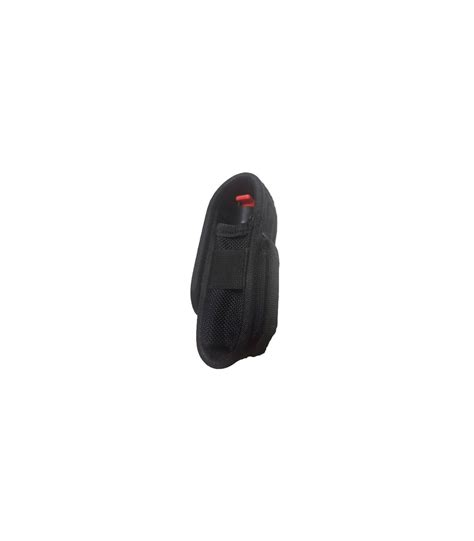nylon: (190, 173, 281, 368)
